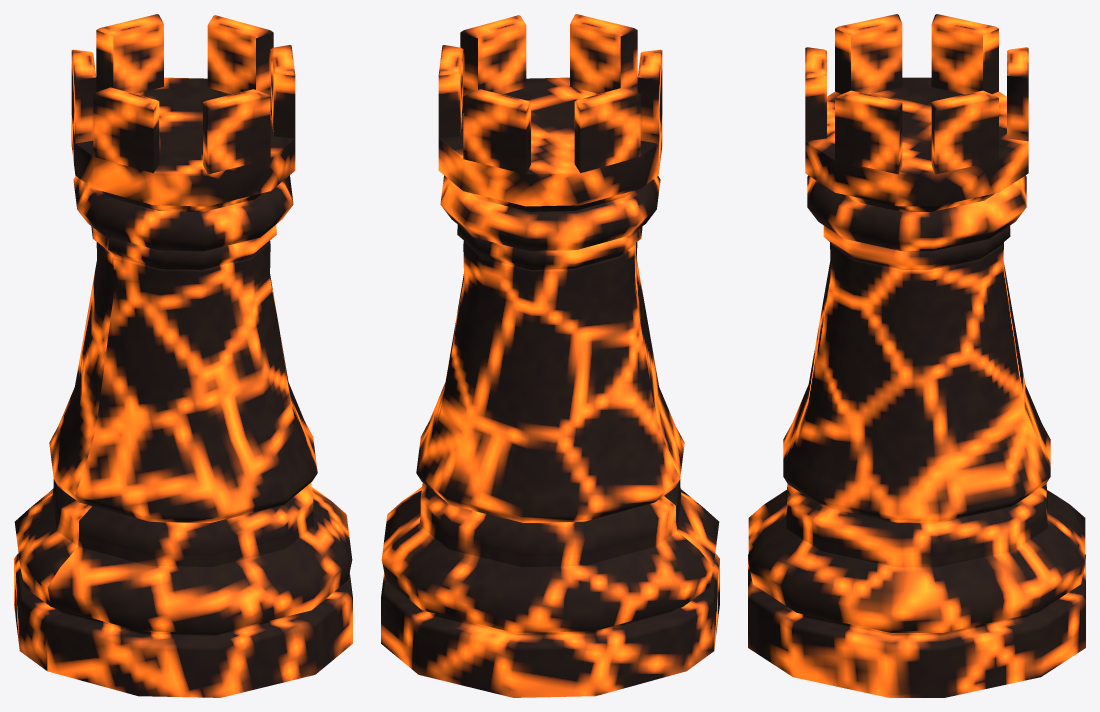
File: item-3-5.glb
The picture shows the model from 3 angles, left to right: view 1: azimuth 30°, elevation 25°; view 2: azimuth 150°, elevation 25°; view 3: azimuth 270°, elevation 25°; orthographic projection.
Visible parts, largest first — view 1: BlackTower; view 2: BlackTower; view 3: BlackTower.
Part boxes in pixels (x1=…): BlackTower: x1=14, y1=14, x2=352, y2=697; BlackTower: x1=381, y1=14, x2=719, y2=697; BlackTower: x1=748, y1=14, x2=1085, y2=697.
Size of the model in its own units: 0.092 by 0.1651 by 0.0897.
Materials: 1 (1 with a texture image).
